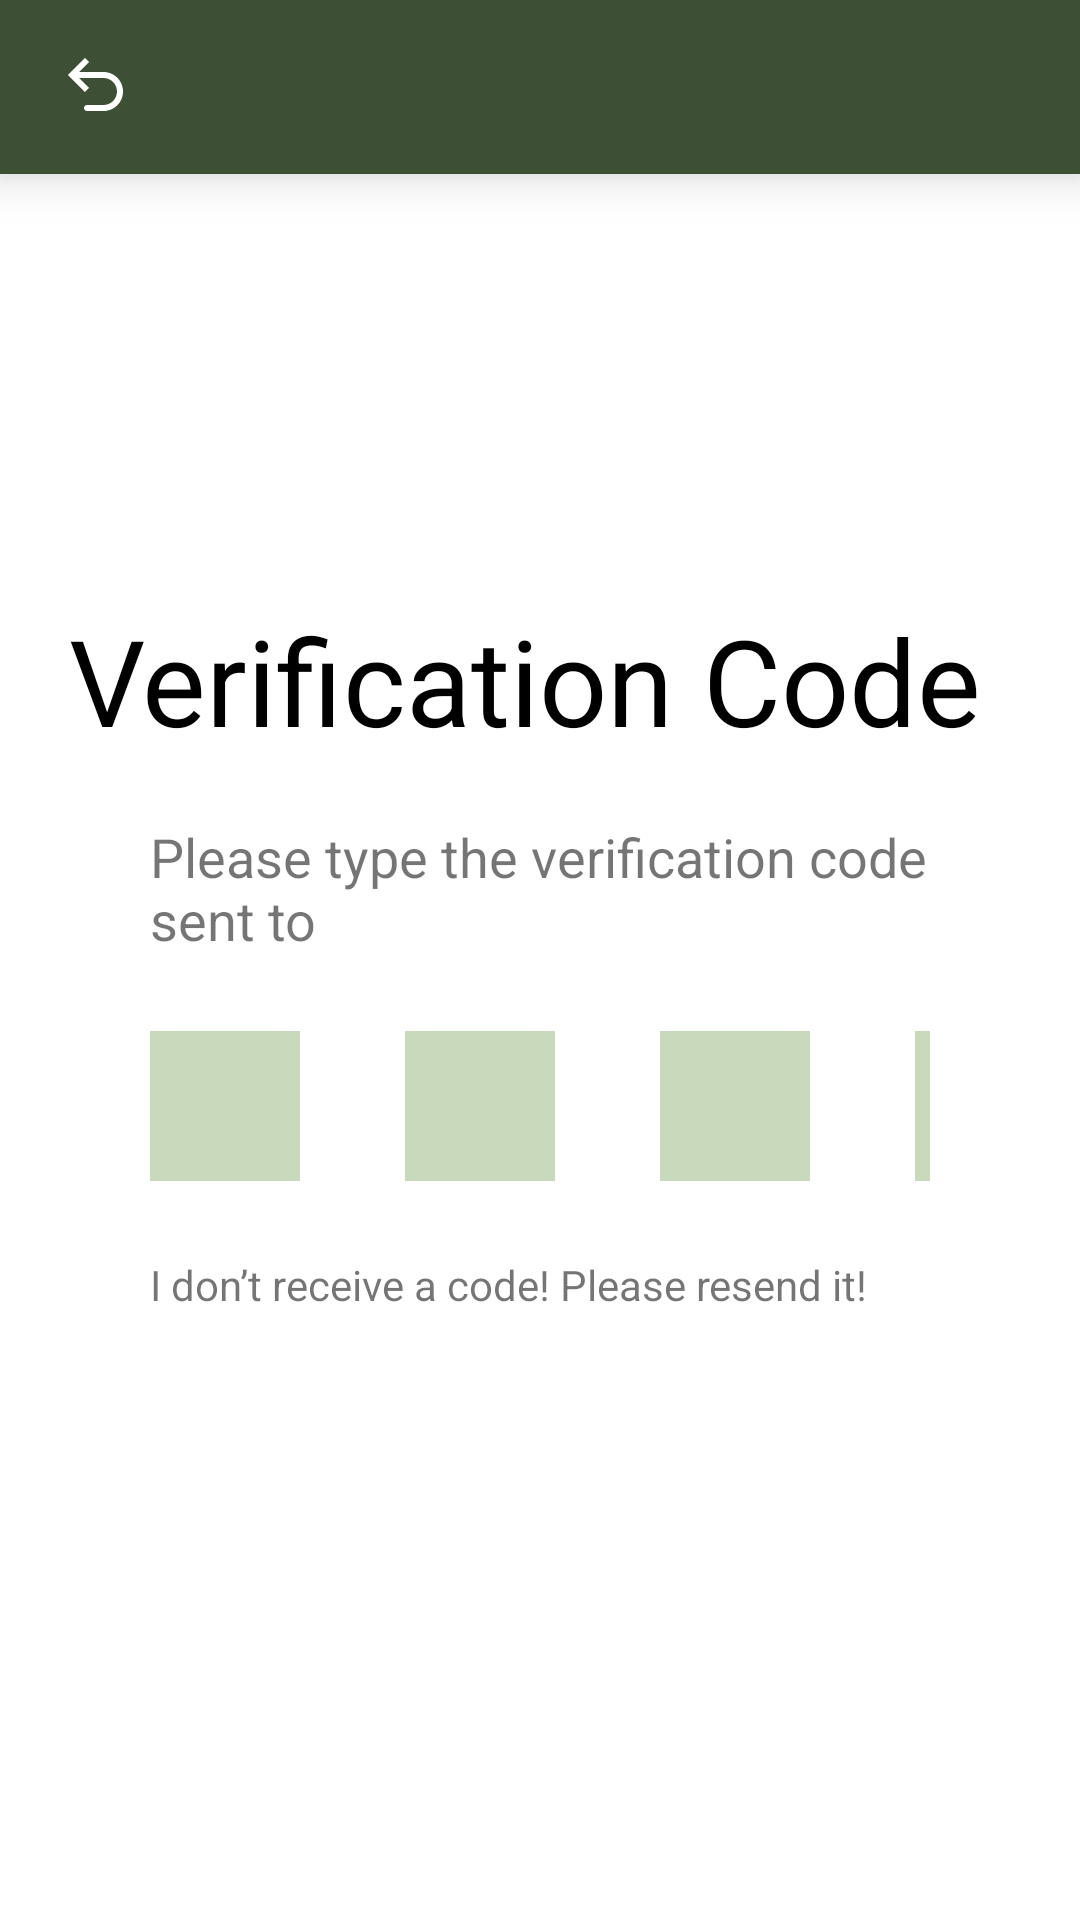

Screen size 1080 x 1920. Icon name, then its center in pixels as (x=x, y=y):
back: (x=95, y=84)
